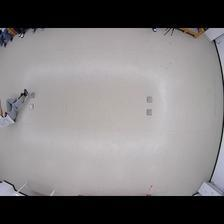fall: (1, 88, 32, 131)
